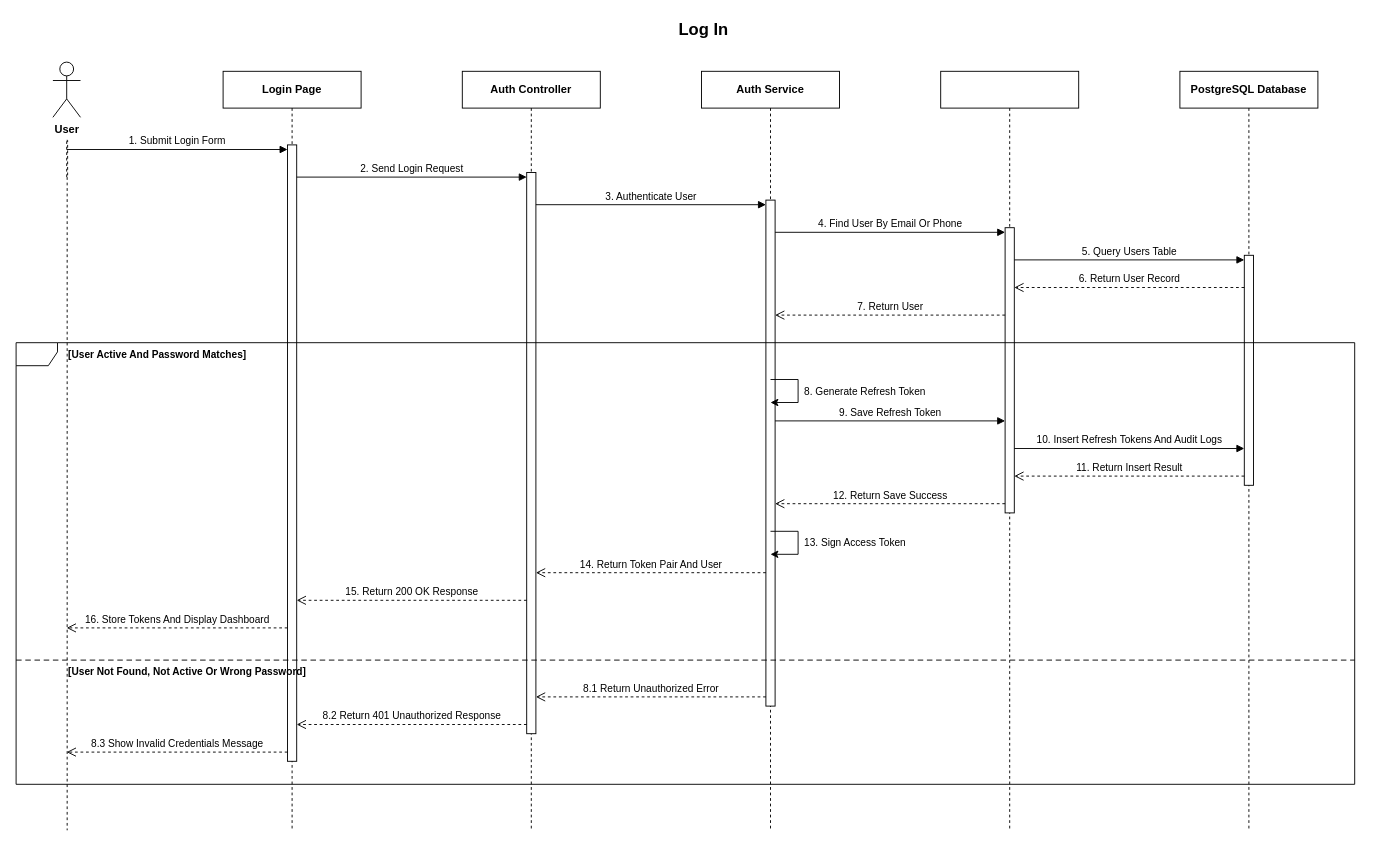
The diagram is 1385 pixels wide and 846 high, and some of its shapes have lost their labels. The shapes that lost their labels are listed below. From the top down, each one's box as (x1, y1, x2, y2) in pixels, then its label:
(940, 70, 1079, 830): User Model
(15, 342, 1355, 784): alt
